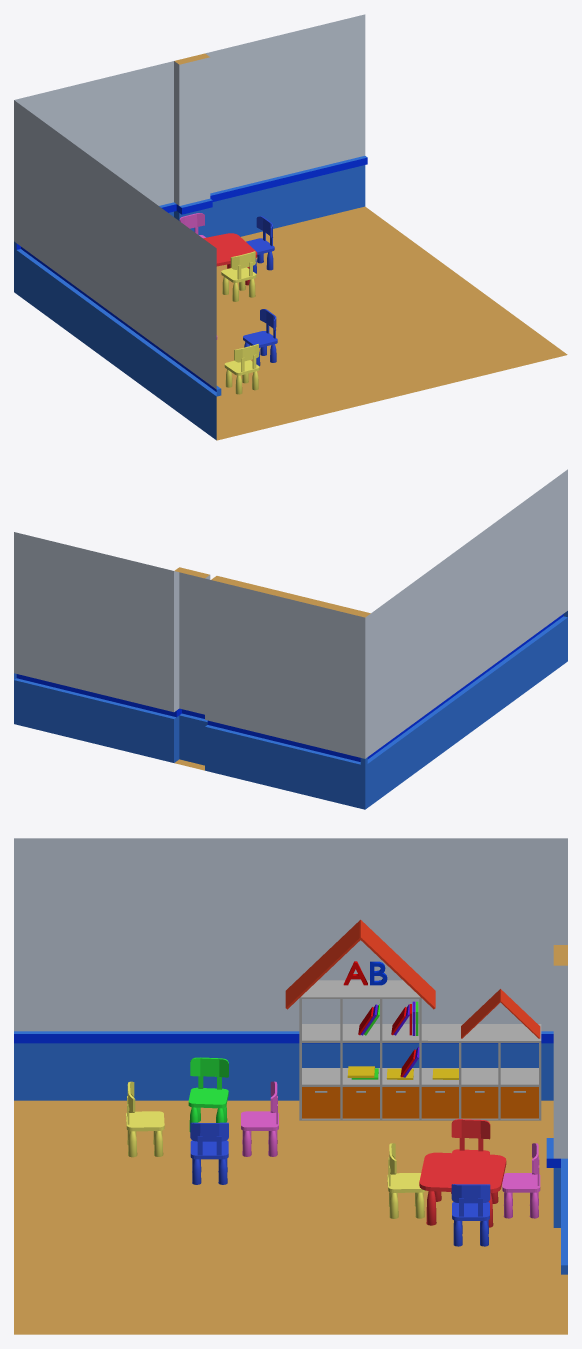
File: KidsRoom.fbx
The picture shows the model from 3 angles, top to bottom: view 1: azimuth 30°, elevation 25°; view 2: azimuth 150°, elevation 25°; view 3: azimuth 270°, elevation 25°; orthographic projection. The views are drawn at different scales.
Parts seen in each view (by area): view 1: Room, Chair, Chair.004, Table, Chair.006, Chair.001; view 2: Room; view 3: Room, Shelf, Table, Chair.007, Chair.006, Chair.001, Chair, Chair.005, Chair.002, Chair.004, Books, Chair.003 (+2 smaller).
Part boxes in pixels (<box>): Room: <box>14,14,567,440</box>; Chair: <box>224,344,259,394</box>; Chair.004: <box>221,251,256,301</box>; Table: <box>203,233,257,285</box>; Chair.006: <box>243,309,277,366</box>; Chair.001: <box>246,216,274,273</box>; Room: <box>14,469,567,809</box>; Room: <box>14,838,567,1334</box>; Shelf: <box>285,919,541,1120</box>; Table: <box>419,1152,506,1227</box>; Chair.007: <box>188,1057,228,1131</box>; Chair.006: <box>190,1122,228,1184</box>; Chair.001: <box>451,1184,490,1246</box>; Chair: <box>126,1081,164,1157</box>; Chair.005: <box>241,1081,278,1156</box>; Chair.002: <box>502,1143,540,1218</box>; Chair.004: <box>387,1143,425,1218</box>; Books: <box>347,1004,458,1079</box>; Chair.003: <box>451,1119,490,1193</box>.
Size of the model in its own units: 2000 by 1049 by 2000.
